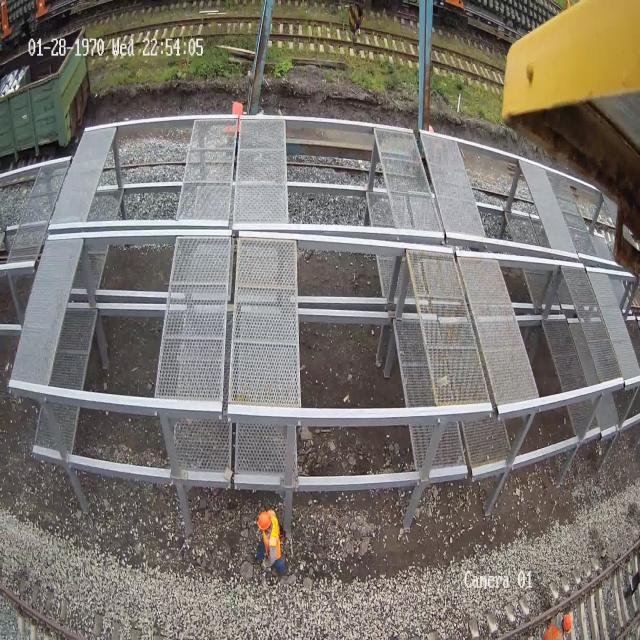Helmet: (258, 510, 270, 530), (563, 613, 572, 632)
Person: (258, 509, 286, 574), (542, 612, 572, 640)
